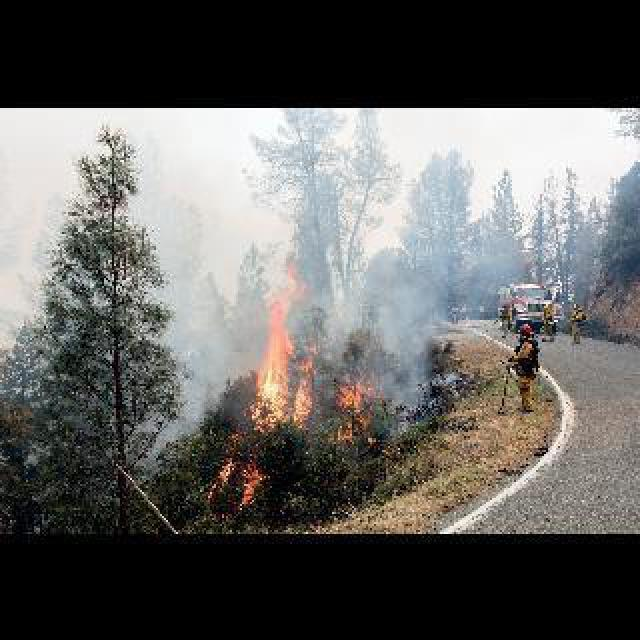Fire: (208, 256, 386, 500)
